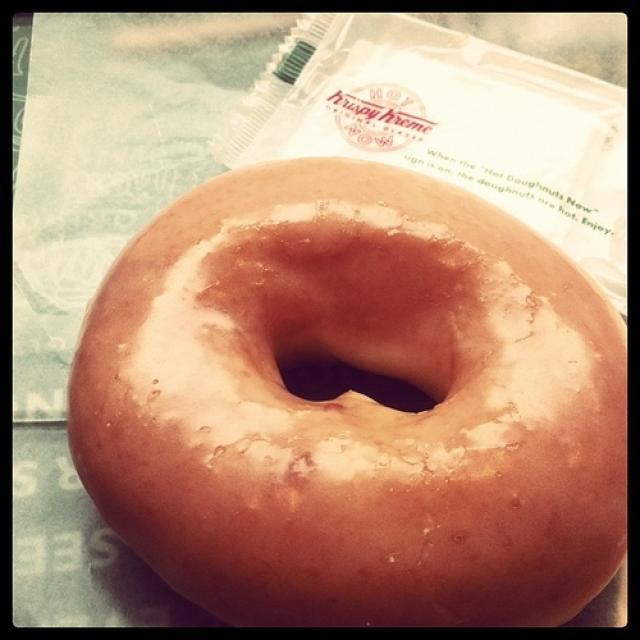炸货点心: (18, 35, 609, 618)
